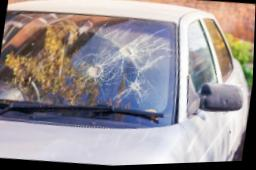Windshield: (0, 4, 180, 129)
